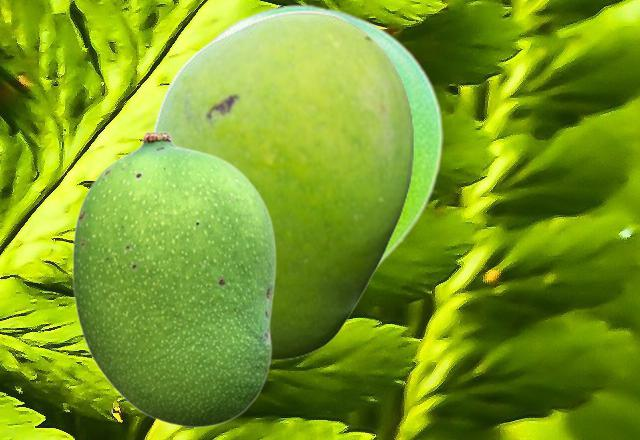green_mango: (151, 9, 413, 359), (194, 3, 442, 277), (71, 130, 275, 427)
